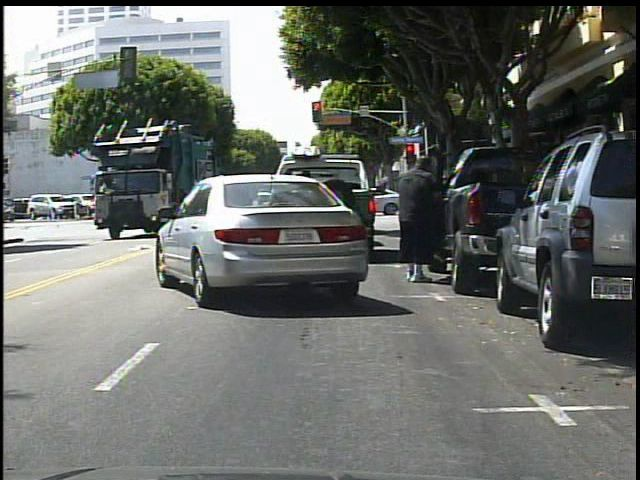person: (396, 152, 443, 292)
